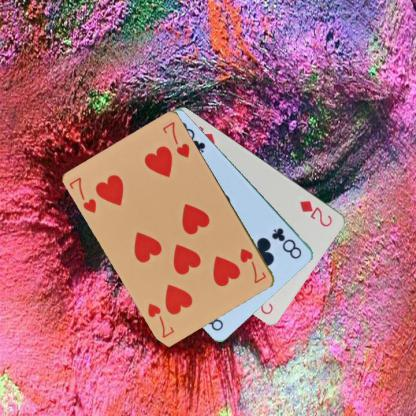2d: (297, 198, 334, 228)
7h: (67, 174, 98, 214), (238, 245, 268, 285)
8c: (270, 224, 304, 260)
